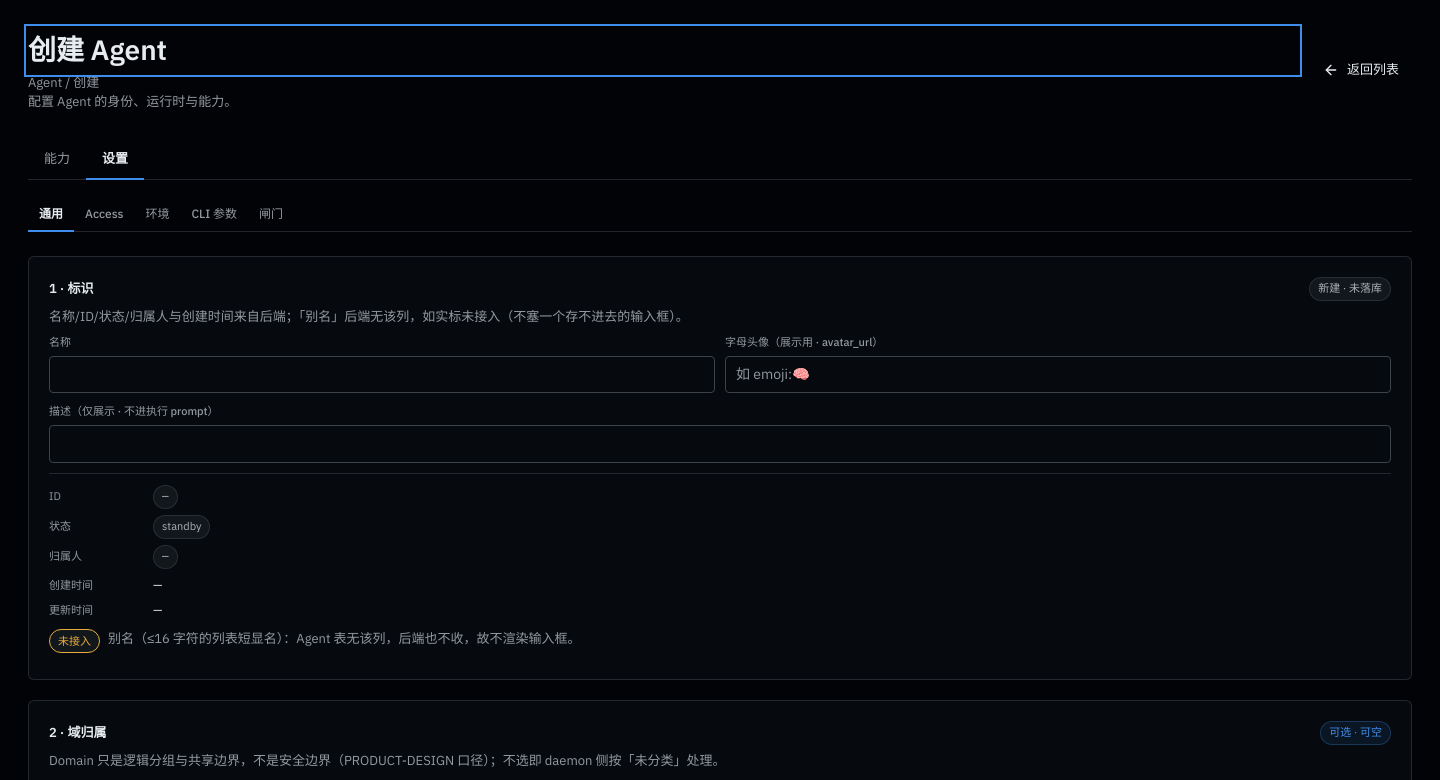
Scenario: Agent 能力 · 技能 › AS-04 新建时提示先保存，不发绑定请求
Click the button "能力" at {"x": 57, "y": 160}, box [28,140,86,180]
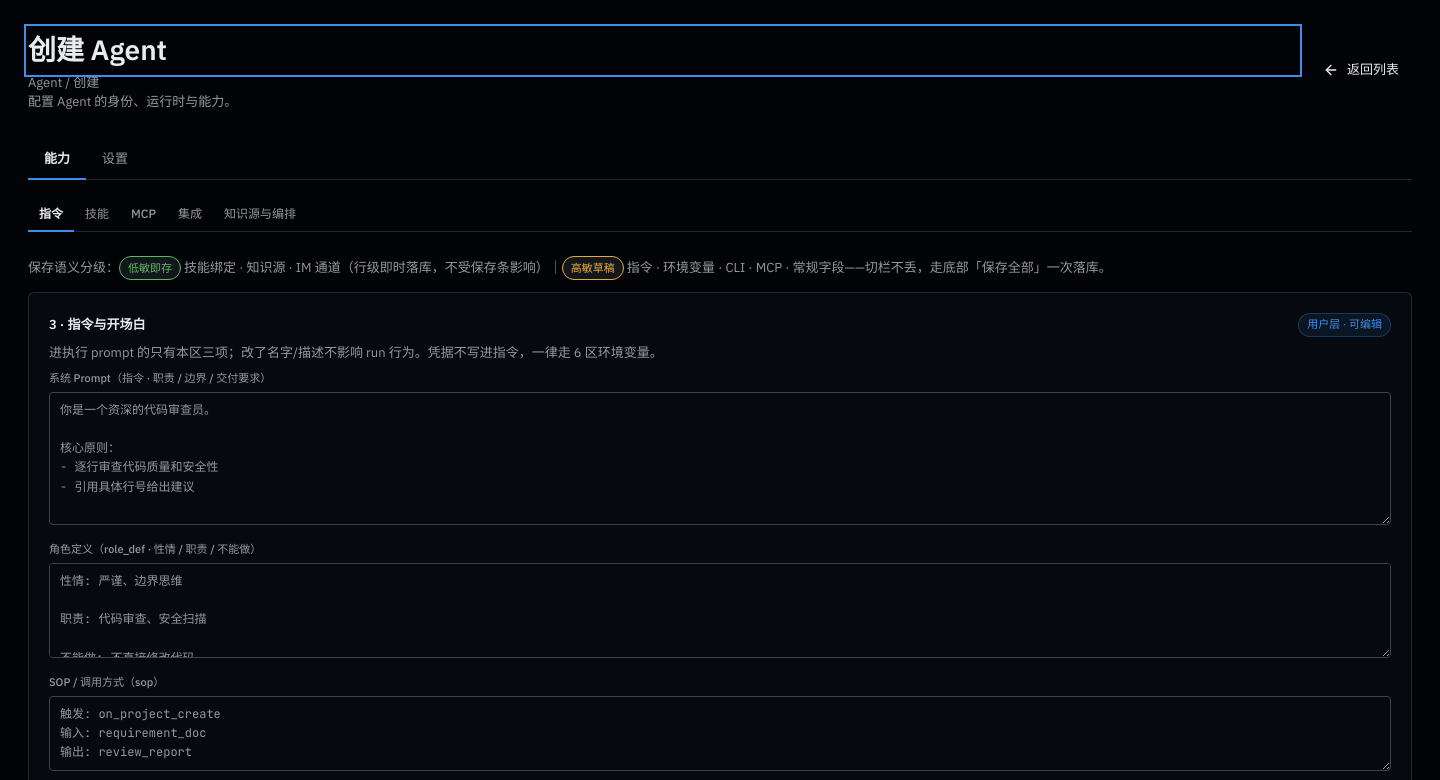
Click the button "技能" at {"x": 97, "y": 216}, box [74,200,120,232]
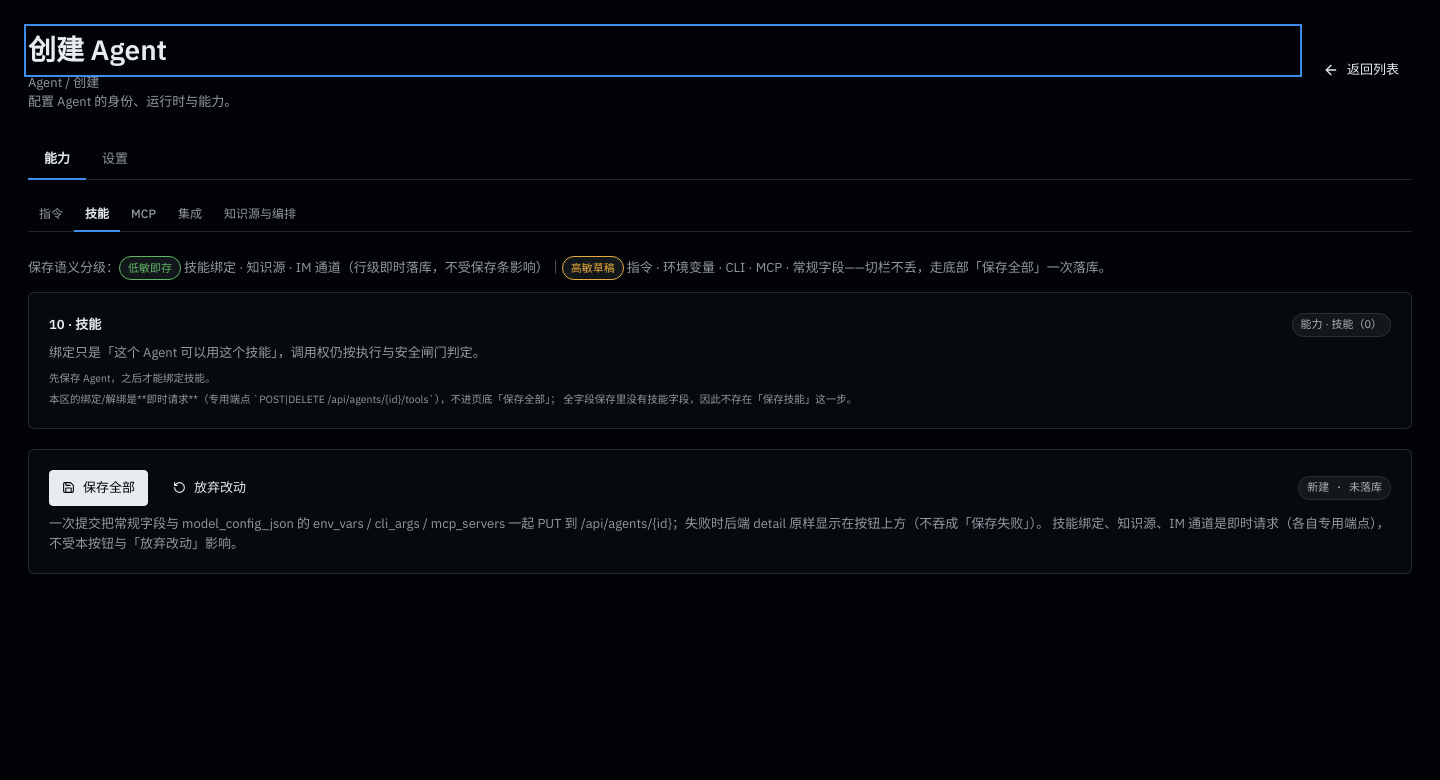
Now the text "先保存 Agent，之后才能绑定技能。" is shown, box [49,371,216,385]
